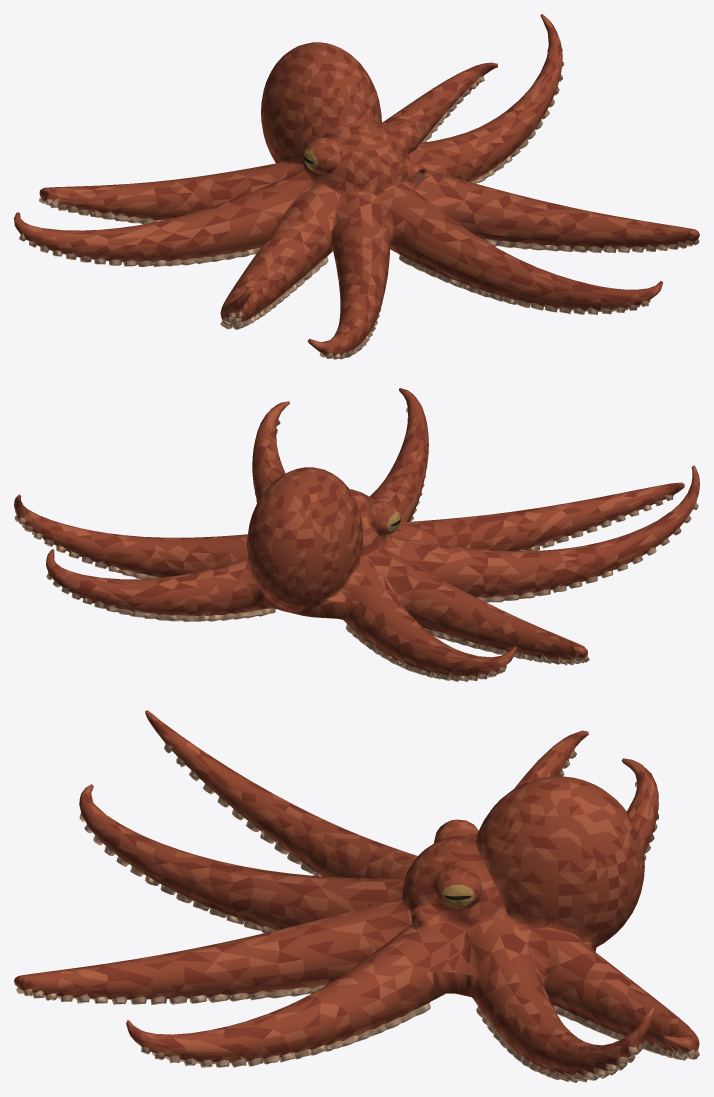
File: NEW406_giant_octopus_LOD2.glb
3 renders of one model, top to bottom at view 1: azimuth 30°, elevation 25°; view 2: azimuth 150°, elevation 25°; view 3: azimuth 270°, elevation 25°, orthographic. The views are drawn at different scales.
Parts seen in each view (by area): view 1: NEW406_Whole_Octopus_LOD2; view 2: NEW406_Whole_Octopus_LOD2; view 3: NEW406_Whole_Octopus_LOD2.
Boxes of the visible parts, box(x1,y1,x2,y2) form: NEW406_Whole_Octopus_LOD2: box(14, 14, 699, 359); NEW406_Whole_Octopus_LOD2: box(14, 388, 699, 681); NEW406_Whole_Octopus_LOD2: box(14, 710, 699, 1082).
Size of the model in its own units: 2.09 by 0.5608 by 1.78.
